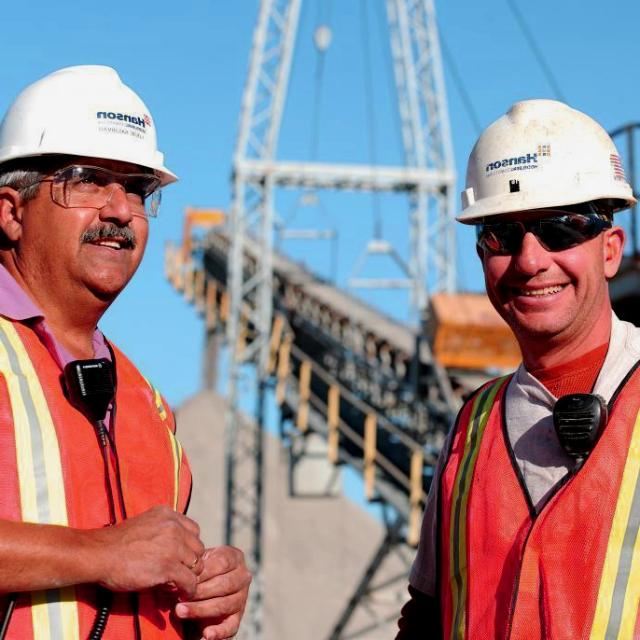face_nomask: (489, 207, 620, 333), (47, 160, 162, 291)
glasses: (467, 204, 613, 266), (47, 160, 169, 228)
hand_noglove: (90, 501, 198, 603), (166, 539, 273, 640)
head_helmet: (446, 98, 632, 225), (1, 54, 187, 165)
person: (0, 58, 251, 633), (391, 93, 639, 636)
vest: (0, 309, 205, 632), (429, 372, 639, 632)
